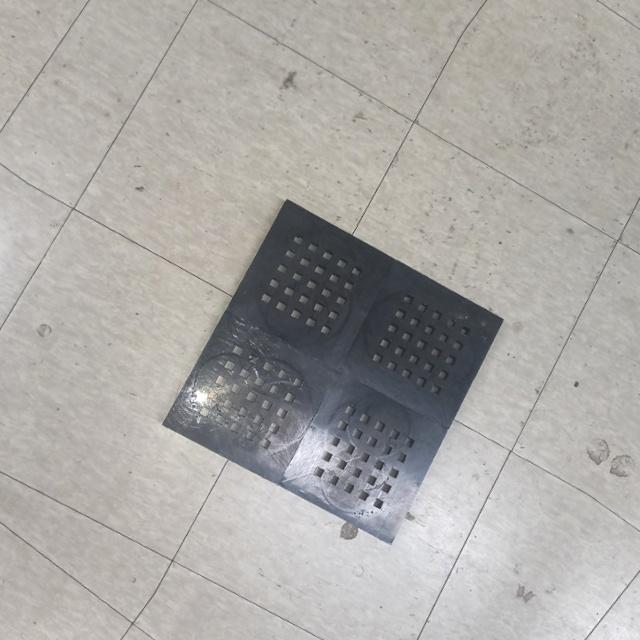pallet: (142, 176, 538, 571)
